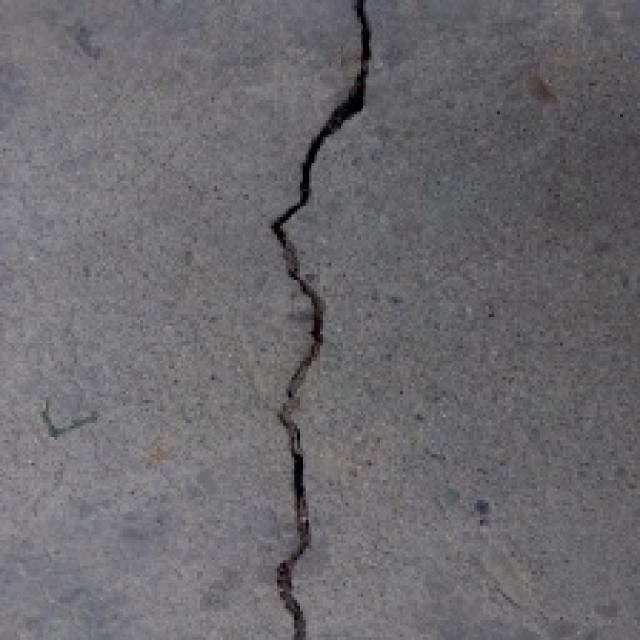crack: (266, 0, 384, 640)
